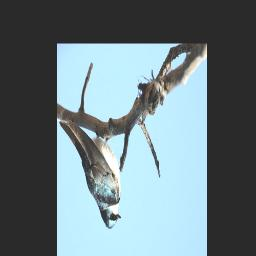Swallow: (59, 117, 122, 230)
